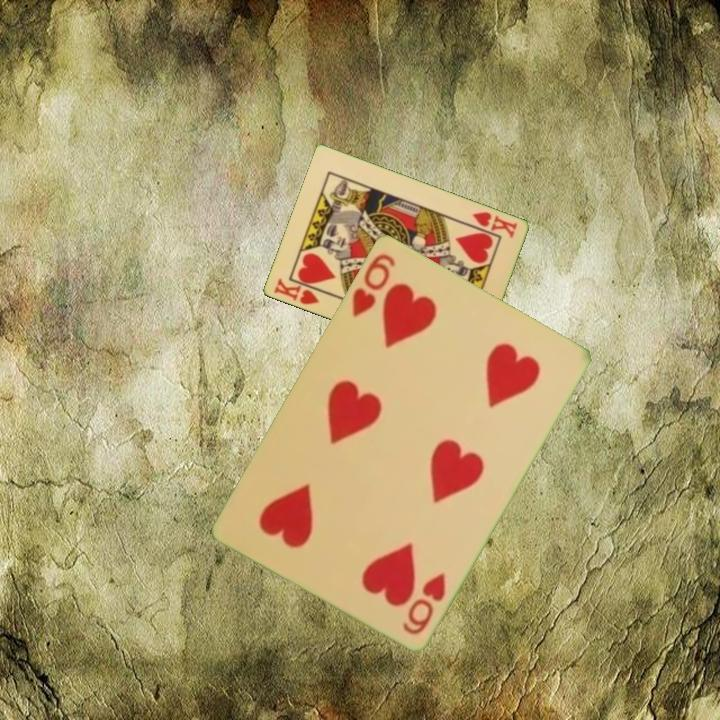6h: (348, 249, 399, 320), (398, 568, 449, 637)
Kh: (270, 275, 327, 308), (468, 208, 520, 241)
